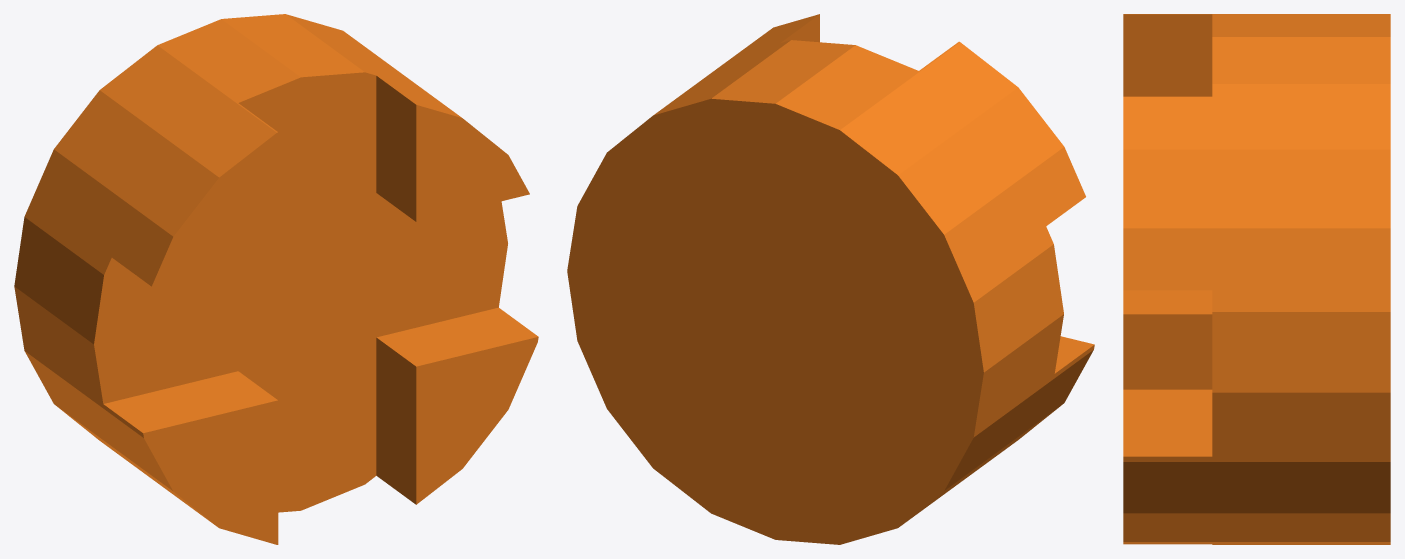
File: tinker.obj
3 renders of one model, left to right at view 1: azimuth 30°, elevation 25°; view 2: azimuth 150°, elevation 25°; view 3: azimuth 270°, elevation 25°, orthographic. The views are drawn at different scales.
Visible parts, largest first — view 1: obj_0; view 2: obj_0; view 3: obj_0.
Boxes of the visible parts, bbox=[...] form: obj_0: bbox=[14, 14, 538, 544]; obj_0: bbox=[567, 14, 1094, 544]; obj_0: bbox=[1123, 14, 1390, 544].
Size of the model in its own units: 30 by 30 by 15.
